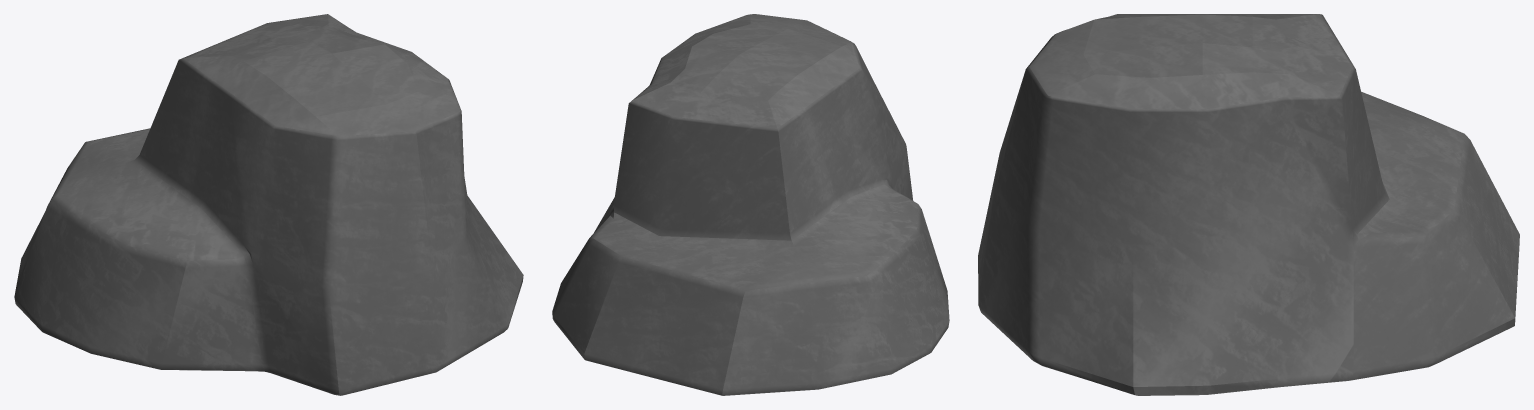
File: RockA.fbx
3 views of the same model, side by side, from view 1: azimuth 30°, elevation 25°; view 2: azimuth 150°, elevation 25°; view 3: azimuth 270°, elevation 25° (orthographic). The views are drawn at different scales.
Visible parts, largest first — view 1: pCube1; view 2: pCube1; view 3: pCube1.
Boxes of the visible parts, box(x1,y1,x2,y2) form: pCube1: box(14, 14, 523, 395); pCube1: box(552, 14, 949, 395); pCube1: box(978, 14, 1519, 395).
Bounding box in the file's own units: 11.25 × 6.46 × 11.71.
